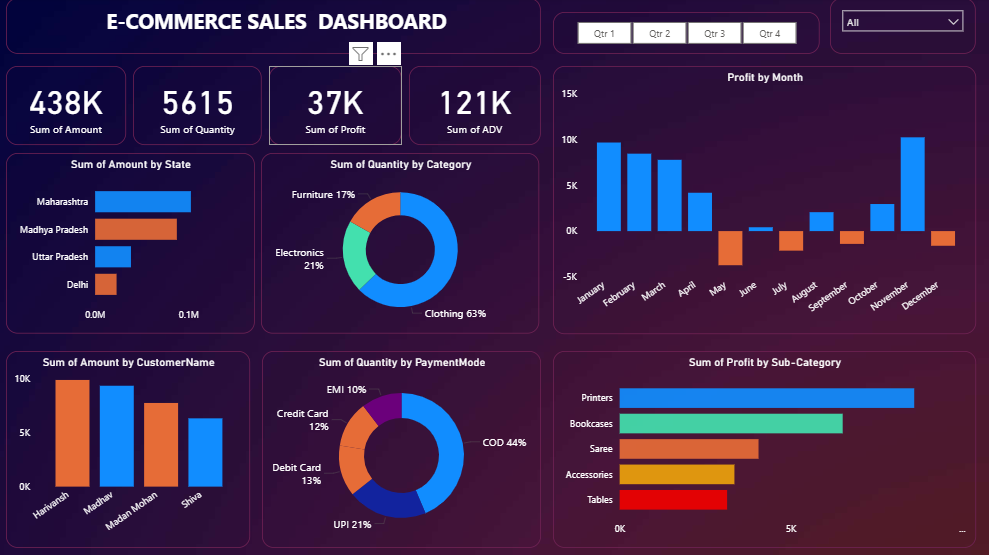

Layout of this report page (visuals, bound fields, positions):
{"tool":"powerbi","page":{"name":"Page 1","canvas":[1280,720],"ordinal":0},"visuals":[{"type":"textbox","box":[10.1,0,690.4,72.2],"z":0},{"type":"columnChart","title":"Profit by Month","fields":{"Category":["Orders.Order Date.Variation.Date Hierarchy.Month"],"Y":["Details.Profit"]},"box":[715.6,87.3,545.9,346],"z":1000},{"type":"barChart","fields":{"Category":["Details.Sub-Category"],"Y":["Details.Profit"]},"box":[715.7,455,545.7,253.7],"z":2000},{"type":"donutChart","fields":{"Category":["Details.Category"],"Y":["Details.Quantity"]},"box":[339.3,199.9,359.5,233.5],"z":3000},{"type":"donutChart","fields":{"Y":["Details.Quantity"],"Category":["Details.PaymentMode"]},"box":[340.2,455,360,253.7],"z":4000},{"type":"card","fields":{"Values":["Details.Amount"]},"box":[10.1,87.3,154.5,102.5],"z":5000},{"type":"card","fields":{"Values":["Details.Quantity"]},"box":[174.7,87.3,166.3,102.5],"z":6000},{"type":"card","fields":{"Values":["Details.Profit"]},"box":[349.4,87.3,171.3,102.5],"z":7000},{"type":"card","fields":{"Values":["Details.ADV"]},"box":[530.8,87.3,169.7,102.5],"z":8000},{"type":"barChart","fields":{"Category":["Orders.State"],"Y":["Details.Amount"]},"box":[10.1,199.9,320.8,233.5],"z":9000},{"type":"columnChart","fields":{"Category":["Orders.CustomerName"],"Y":["Details.Amount"]},"box":[10,455,315,254],"z":10000},{"type":"slicer","fields":{"Values":["Orders.Order Date.Variation.Date Hierarchy.Quarter"]},"box":[715.6,18.5,344.4,53.8],"z":11000},{"type":"slicer","fields":{"Values":["Orders.State"]},"box":[1073.4,0,188.1,72.2],"z":12000}]}

Visuals, with their boxes in screenshot pixels (x1, y1, x2, y2), scaled from the page's 1280x720 canvas onto the 989x555 screenshot:
textbox: rect(8, 0, 541, 56)
"Profit by Month" columnChart: rect(553, 67, 975, 334)
barChart - Details.Sub-Category x Details.Profit: rect(553, 351, 975, 546)
donutChart - Details.Category x Details.Quantity: rect(262, 154, 540, 334)
donutChart - Details.Quantity x Details.PaymentMode: rect(263, 351, 541, 546)
card - Details.Amount: rect(8, 67, 127, 146)
card - Details.Quantity: rect(135, 67, 263, 146)
card - Details.Profit: rect(270, 67, 402, 146)
card - Details.ADV: rect(410, 67, 541, 146)
barChart - Orders.State x Details.Amount: rect(8, 154, 256, 334)
columnChart - Orders.CustomerName x Details.Amount: rect(8, 351, 251, 547)
slicer - Orders.Order Date.Variation.Date Hierarchy.Quarter: rect(553, 14, 819, 56)
slicer - Orders.State: rect(829, 0, 975, 56)
